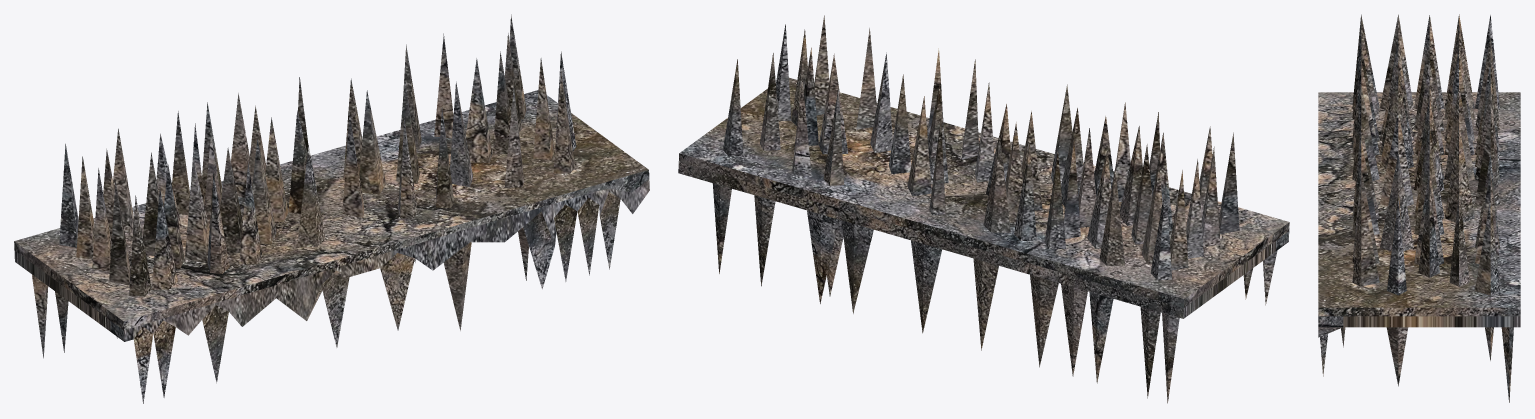
The model's file is spike_1.fbx.
3 renders of one model, left to right at view 1: azimuth 30°, elevation 25°; view 2: azimuth 150°, elevation 25°; view 3: azimuth 270°, elevation 25°, orthographic. The views are drawn at different scales.
Parts seen in each view (by area): view 1: spike2:headusOBJexport; view 2: spike2:headusOBJexport; view 3: spike2:headusOBJexport.
Boxes of the visible parts, x1,y1,x2,y2 form: spike2:headusOBJexport: (14,14,649,403); spike2:headusOBJexport: (678,15,1289,403); spike2:headusOBJexport: (1318,14,1520,402).
Size of the model in its own units: 248 by 109 by 89.27.
